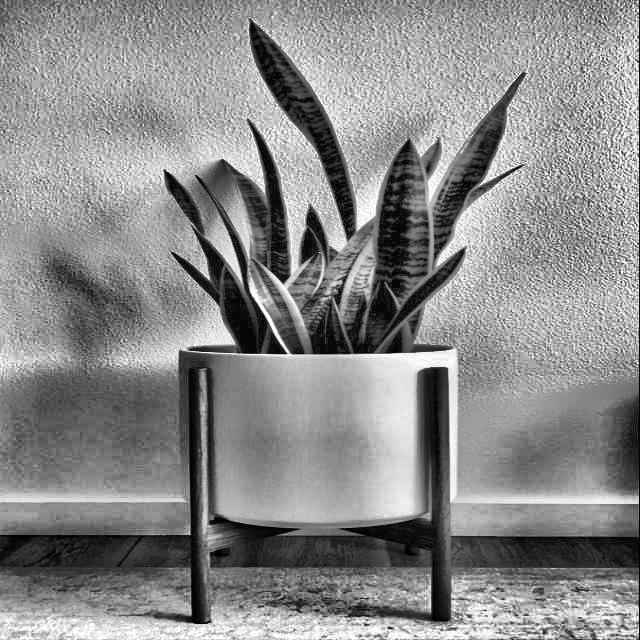plants: (161, 19, 534, 360)
